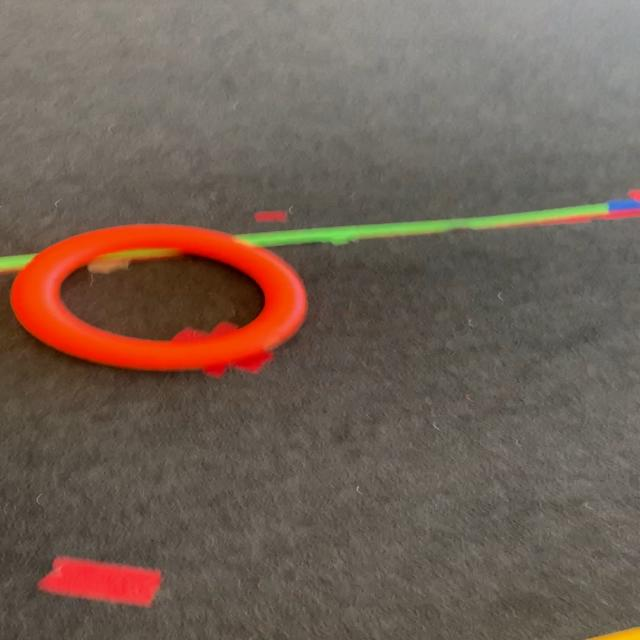notes: (8, 225, 312, 373)
